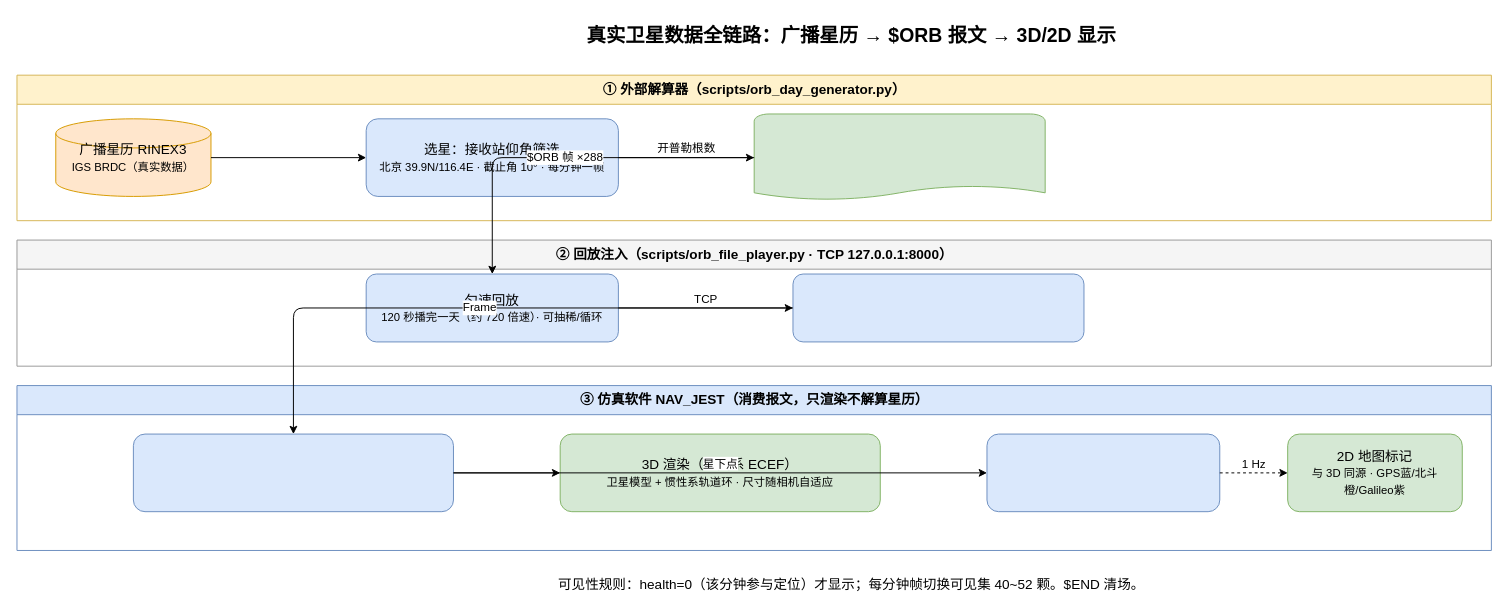
Some shapes in this 1508 by 615 pixel diagram are drawn without their labels. Here are the shapes that lost their labels. From the top down, the centre of each, then its label:
At (899,157): "$ORB 报文文件 playback/orb_day_full.txt（1440 帧/天，含 $BEG/$PNT/$END）".
At (938,307): "RackStatusClient $ORB 解析 + 单位/范围校验（OrbitMessage）".
At (292,472): "SatelliteModel applyOrbitFrame：二体开普勒推进 + -Ωe×tow 地球自转".
At (1103,472): "星下点解算 ECI→ECEF→WGS84 · 1 Hz 同步".
